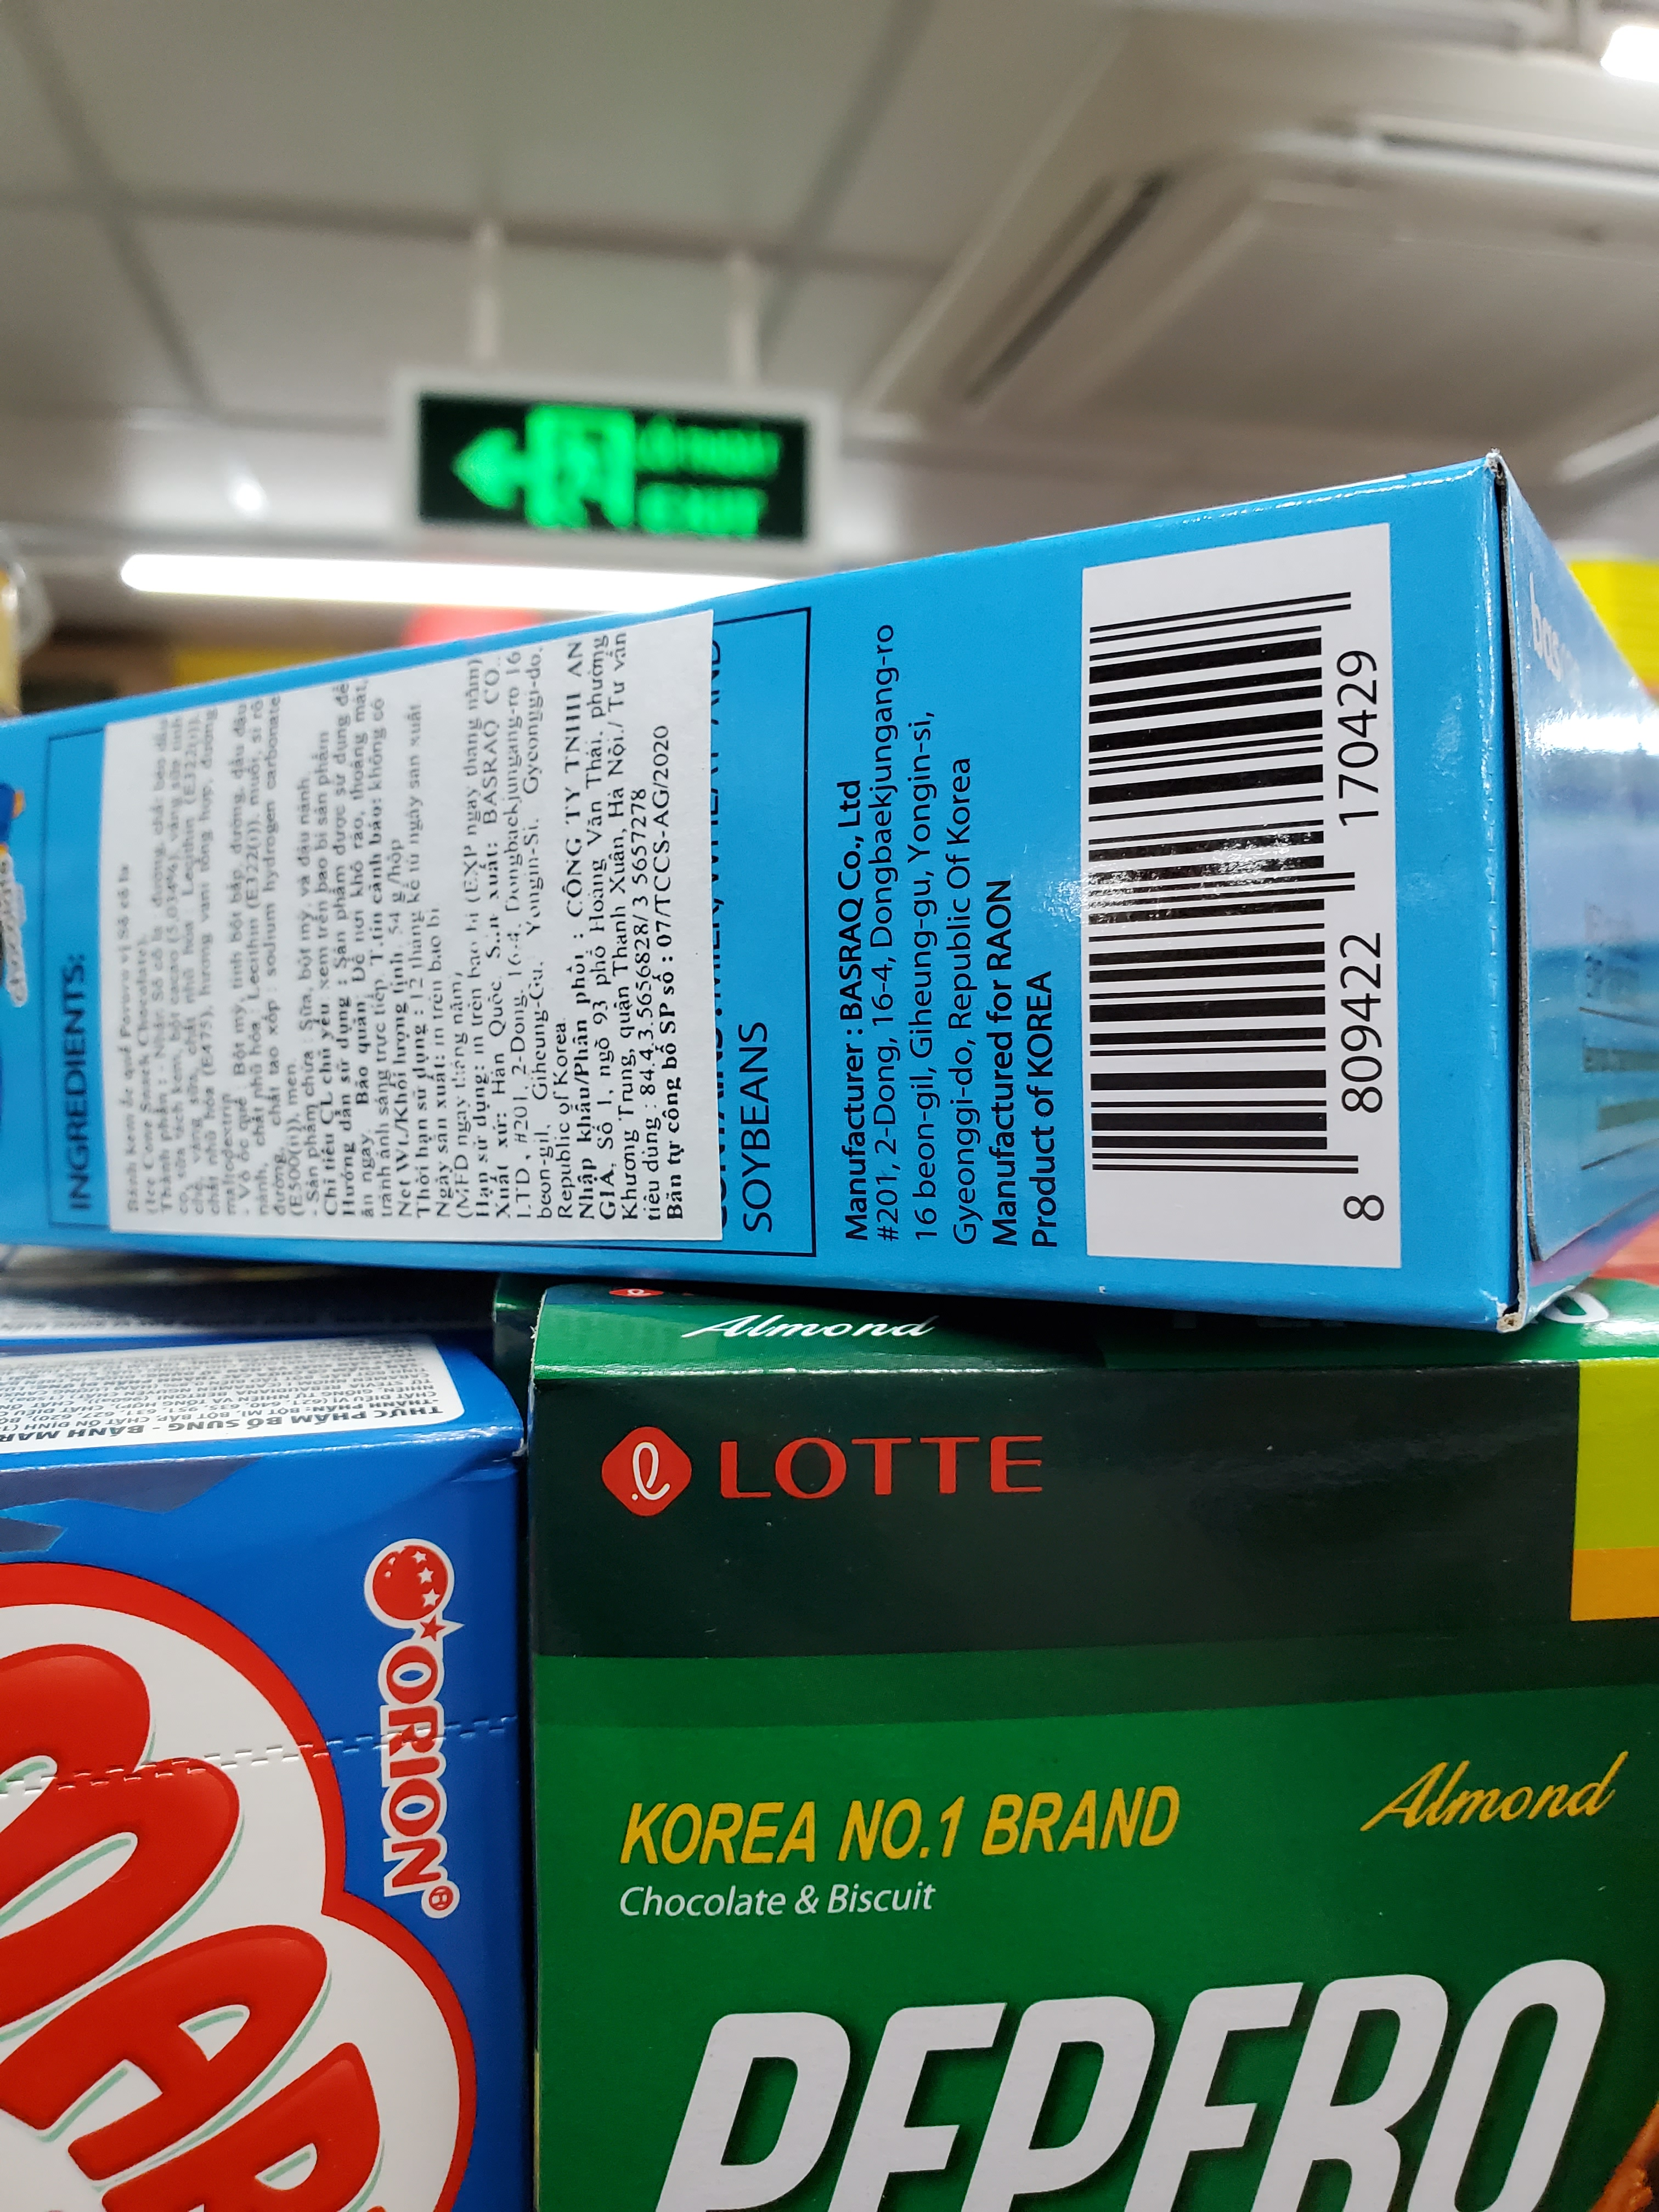barcode: (1061, 545, 1420, 1266)
